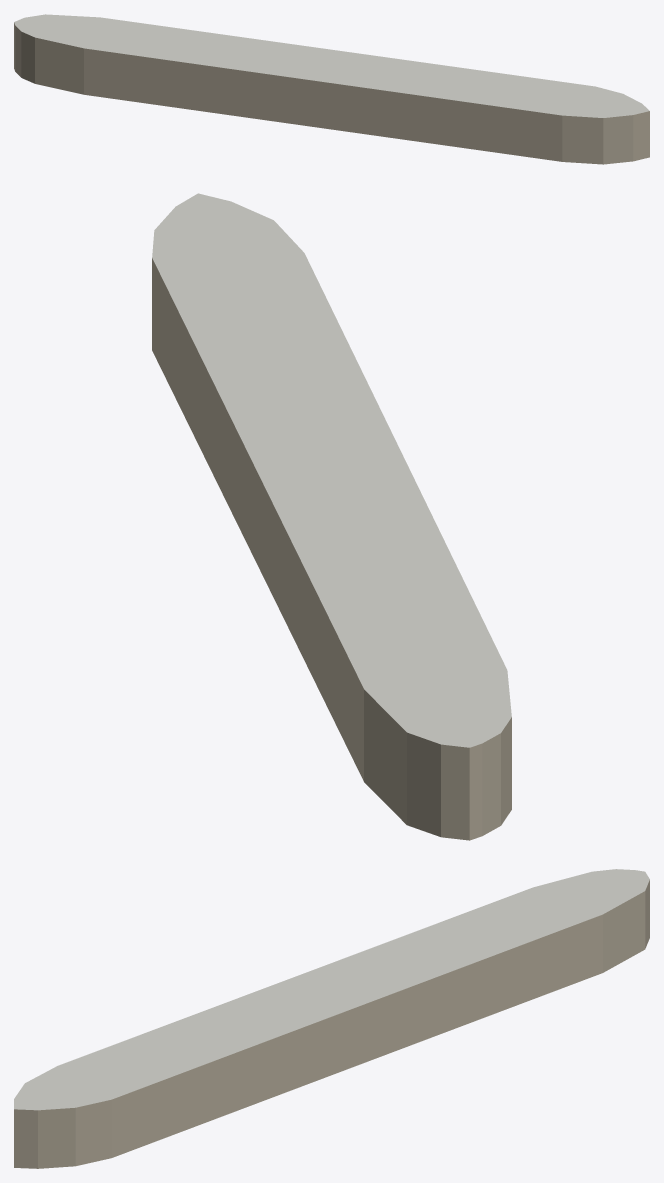
3 renders of one model, top to bottom at view 1: azimuth 30°, elevation 25°; view 2: azimuth 150°, elevation 25°; view 3: azimuth 270°, elevation 25°, orthographic. The views are drawn at different scales.
Parts seen in each view (by area): view 1: tuile; view 2: tuile; view 3: tuile.
Boxes of the visible parts, left/top/right/bottom form: tuile: left=14, top=14, right=649, bottom=164; tuile: left=152, top=193, right=511, bottom=840; tuile: left=14, top=869, right=649, bottom=1168.
Bounding box in the file's own units: 47.3 × 5.35 × 52.7.
